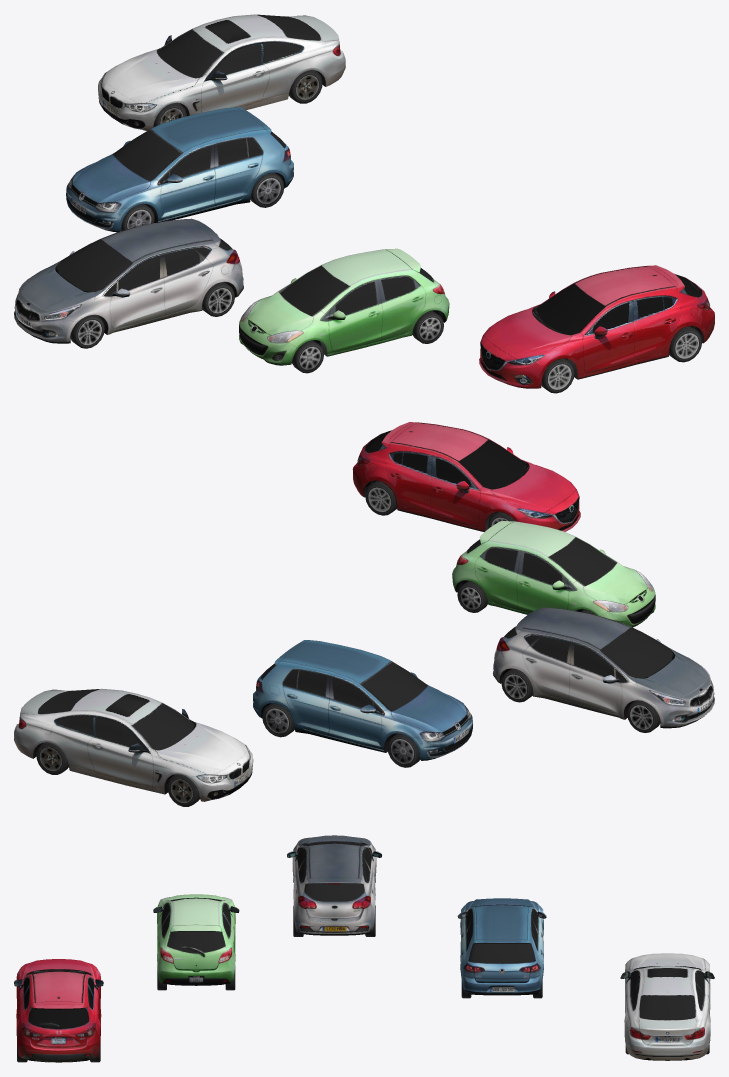
File: traffic-car-pack.glb
3 views of the same model, one above another, from view 1: azimuth 30°, elevation 25°; view 2: azimuth 150°, elevation 25°; view 3: azimuth 270°, elevation 25° (orthographic). The views are drawn at different scales.
Parts seen in each view (by area): view 1: Car_5_car_5_0, Car_1_car_1_0, Car_3_car_3_0, Car_2_car_2_0, Car_4_car_4_0, arka_teker_wheel_0; view 2: Car_1_car_1_0, Car_3_car_3_0, Car_5_car_5_0, Car_2_car_2_0, Car_4_car_4_0, arka_teker_wheel_0; view 3: Car_1_car_1_0, Car_5_car_5_0, Car_3_car_3_0, Car_2_car_2_0, Car_4_car_4_0, arka_teker_wheel_0.
Boxes of the visible parts, x1,y1,x2,y2 form: Car_5_car_5_0: (479,265,714,388); Car_1_car_1_0: (98,14,345,130); Car_3_car_3_0: (14,218,243,343); Car_2_car_2_0: (66,107,293,232); Car_4_car_4_0: (239,248,449,365); arka_teker_wheel_0: (70,70,702,393); Car_1_car_1_0: (14,688,253,801); Car_3_car_3_0: (492,607,714,728); Car_5_car_5_0: (352,422,580,531); Car_2_car_2_0: (253,640,472,760); Car_4_car_4_0: (452,521,655,627); arka_teker_wheel_0: (36,481,660,806); Car_1_car_1_0: (620,953,714,1060); Car_5_car_5_0: (14,959,103,1062); Car_3_car_3_0: (287,835,381,935); Car_2_car_2_0: (457,898,546,995); Car_4_car_4_0: (153,894,239,985); arka_teker_wheel_0: (17,878,709,1062).
Size of what is drawn, in the model's own units: 1.61 by 0.2235 by 2.23.
Materials: 6 (6 with a texture image).
